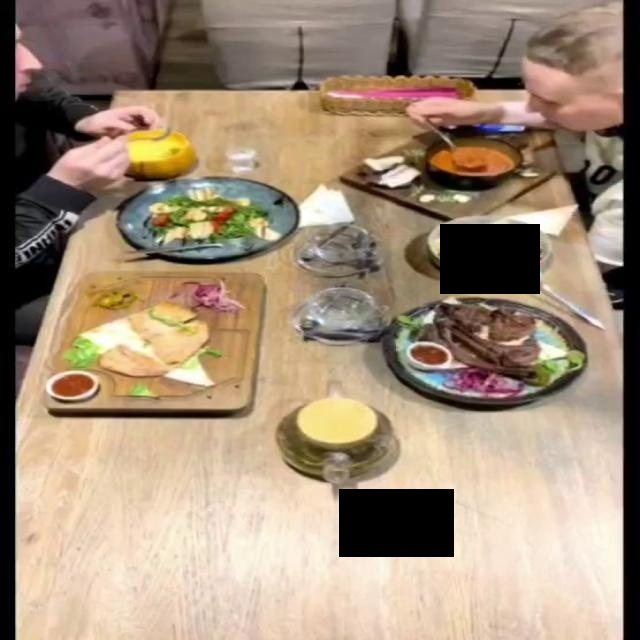meat: (42, 261, 287, 420), (378, 295, 589, 405)
salad: (113, 176, 296, 260), (425, 212, 554, 280)
soup: (338, 126, 560, 220), (121, 129, 197, 178)
tea: (273, 396, 396, 481)
